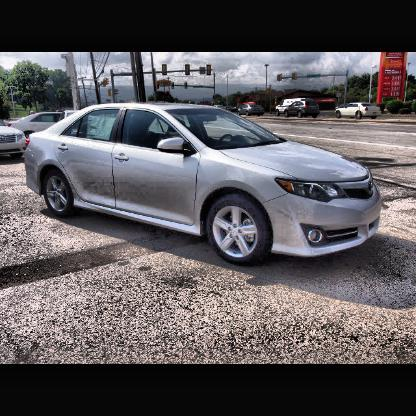Toyota Camry Sedan 2012: (23, 101, 385, 269)
